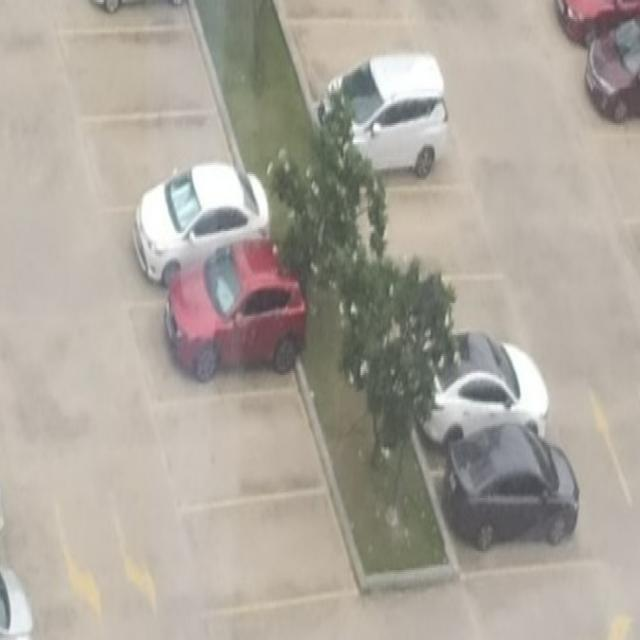car: (165, 239, 306, 381), (445, 426, 579, 549), (135, 162, 270, 282), (318, 53, 447, 177), (412, 331, 549, 442)
freeslot: (167, 475, 367, 626), (137, 378, 330, 526), (68, 102, 247, 221), (376, 263, 537, 387), (44, 20, 219, 127), (340, 180, 509, 286)
